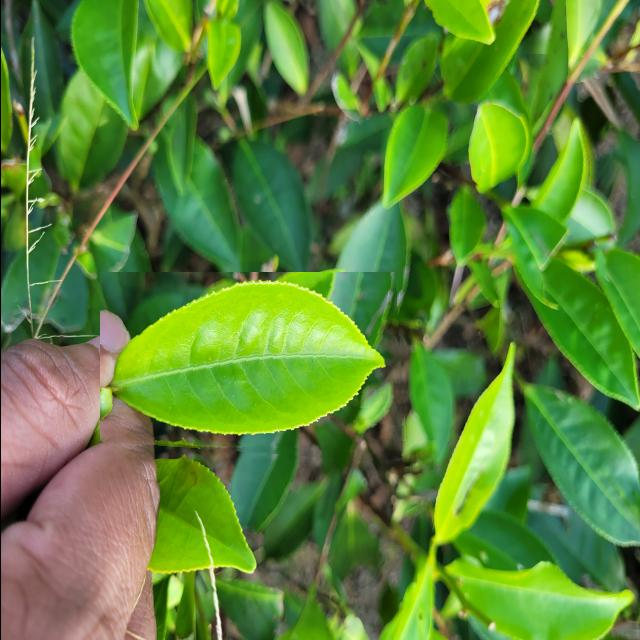Category B 2-4 days: (99, 272, 407, 464)
